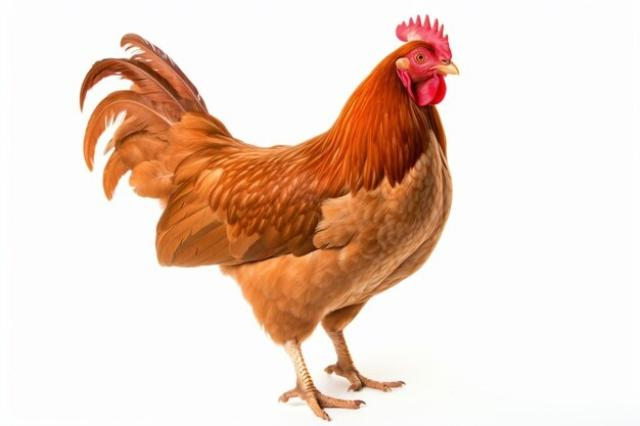Chicken: (78, 13, 462, 421)
